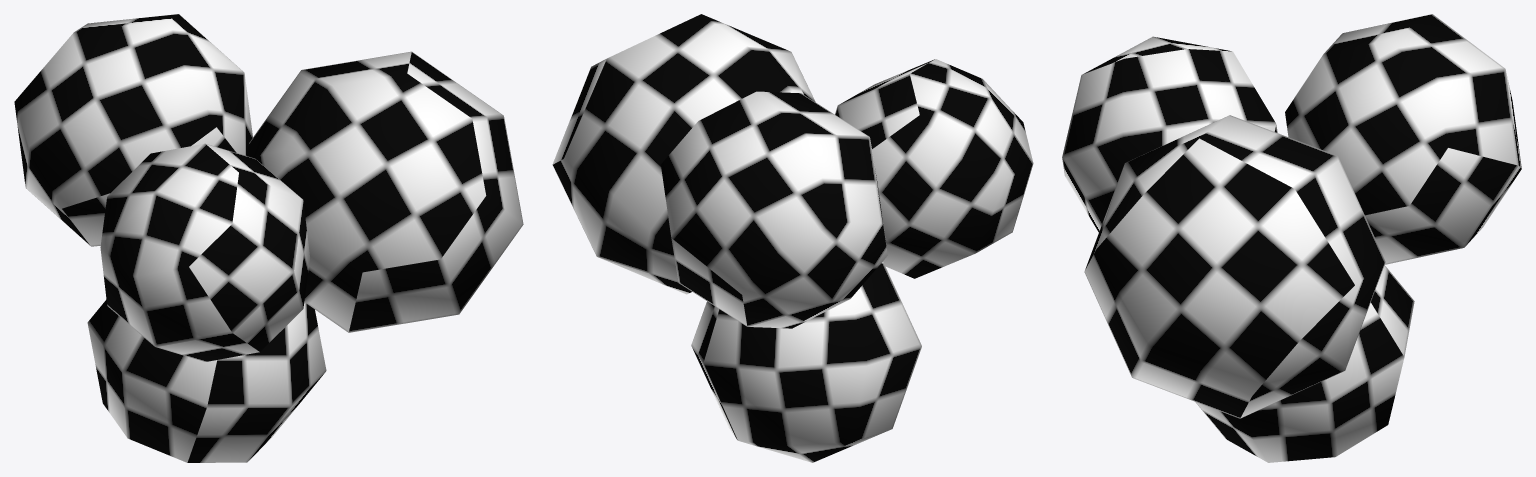
File: initlitr16.dae
3 views of the same model, side by side, from view 1: azimuth 30°, elevation 25°; view 2: azimuth 150°, elevation 25°; view 3: azimuth 270°, elevation 25° (orthographic). The views are drawn at different scales.
Visible parts, largest first — view 1: item; view 2: item; view 3: item.
Boxes of the visible parts, box(x1,y1,x2,y2) form: item: box(14, 14, 523, 462); item: box(552, 14, 1033, 462); item: box(1062, 14, 1521, 462).
Size of the model in its own units: 1.27 by 1.18 by 1.17.
1 material, 1 textured.
